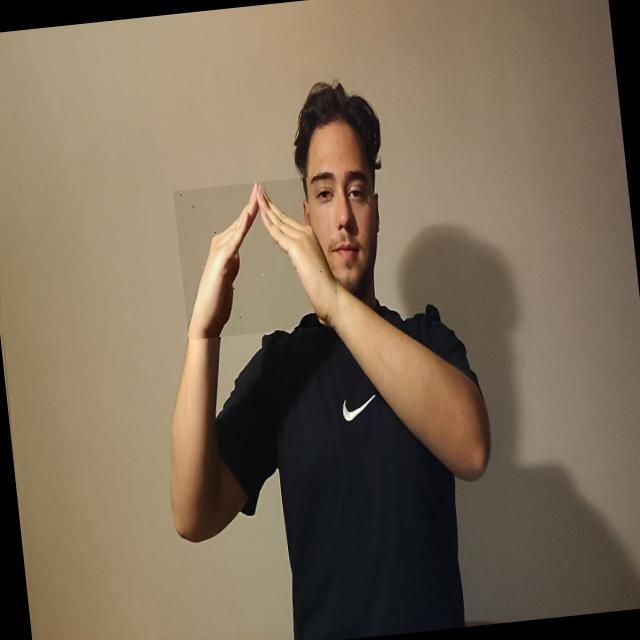house: (173, 175, 342, 340)
